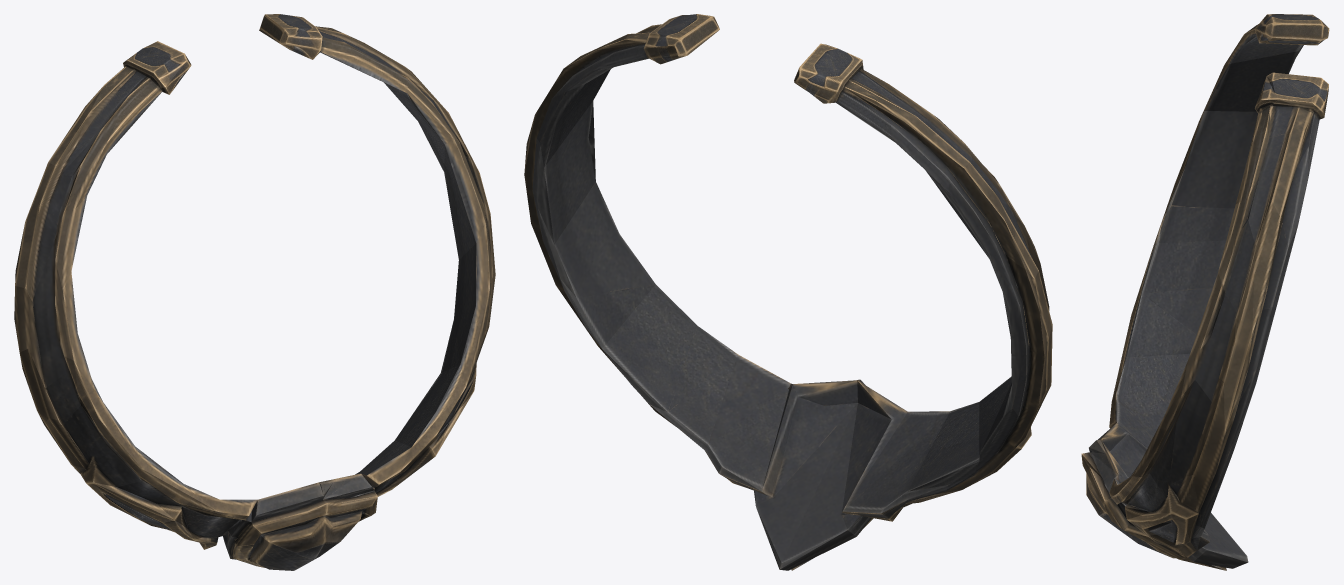
Rendered from SM_SharedGear_Necklace.fbx.
The picture shows the model from 3 angles, left to right: view 1: azimuth 30°, elevation 25°; view 2: azimuth 150°, elevation 25°; view 3: azimuth 270°, elevation 25°; orthographic projection. The views are drawn at different scales.
Parts seen in each view (by area): view 1: SM_SharedGear_Necklace; view 2: SM_SharedGear_Necklace; view 3: SM_SharedGear_Necklace.
Boxes of the visible parts, x1,y1,x2,y2 form: SM_SharedGear_Necklace: (14,14,495,570); SM_SharedGear_Necklace: (524,14,1052,570); SM_SharedGear_Necklace: (1081,14,1329,570).
Size of the model in its own units: 38.6 by 40 by 17.17.
